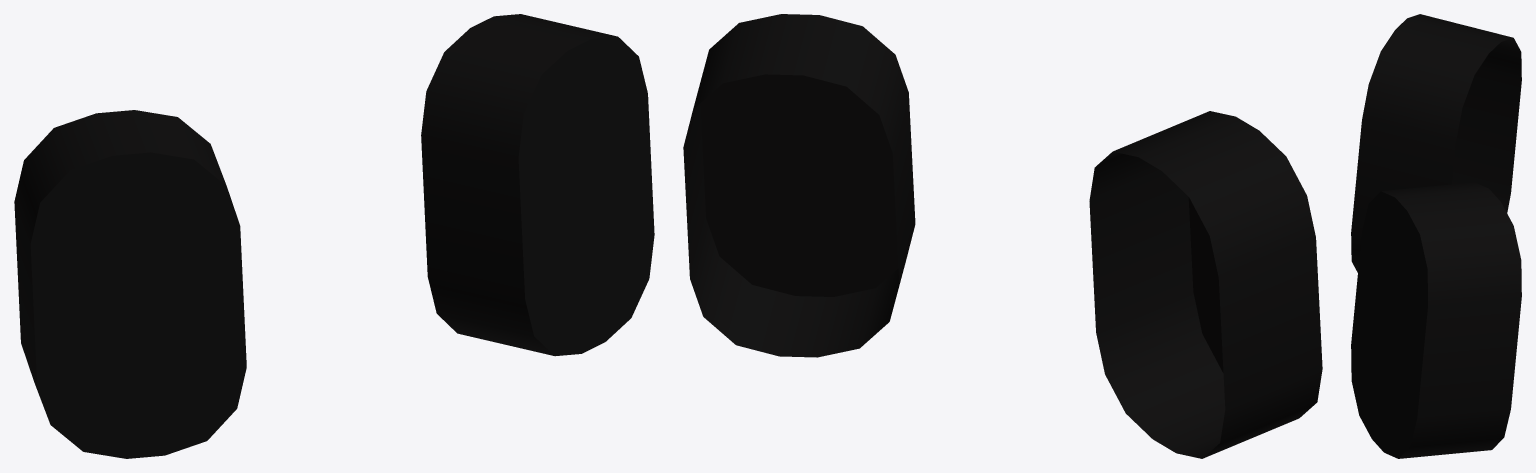
File: Eyes_Basic_Male_01.fbx
The picture shows the model from 3 angles, left to right: view 1: azimuth 30°, elevation 25°; view 2: azimuth 150°, elevation 25°; view 3: azimuth 270°, elevation 25°; orthographic projection. The views are drawn at different scales.
Parts seen in each view (by area): view 1: Eyes_Basic_Male_01; view 2: Eyes_Basic_Male_01; view 3: Eyes_Basic_Male_01.
Boxes of the visible parts, x1,y1,x2,y2 form: Eyes_Basic_Male_01: (14, 14, 654, 458); Eyes_Basic_Male_01: (683, 14, 1322, 458); Eyes_Basic_Male_01: (1351, 14, 1521, 458).
Size of the model in its own units: 55.37 by 25.97 by 16.08.
